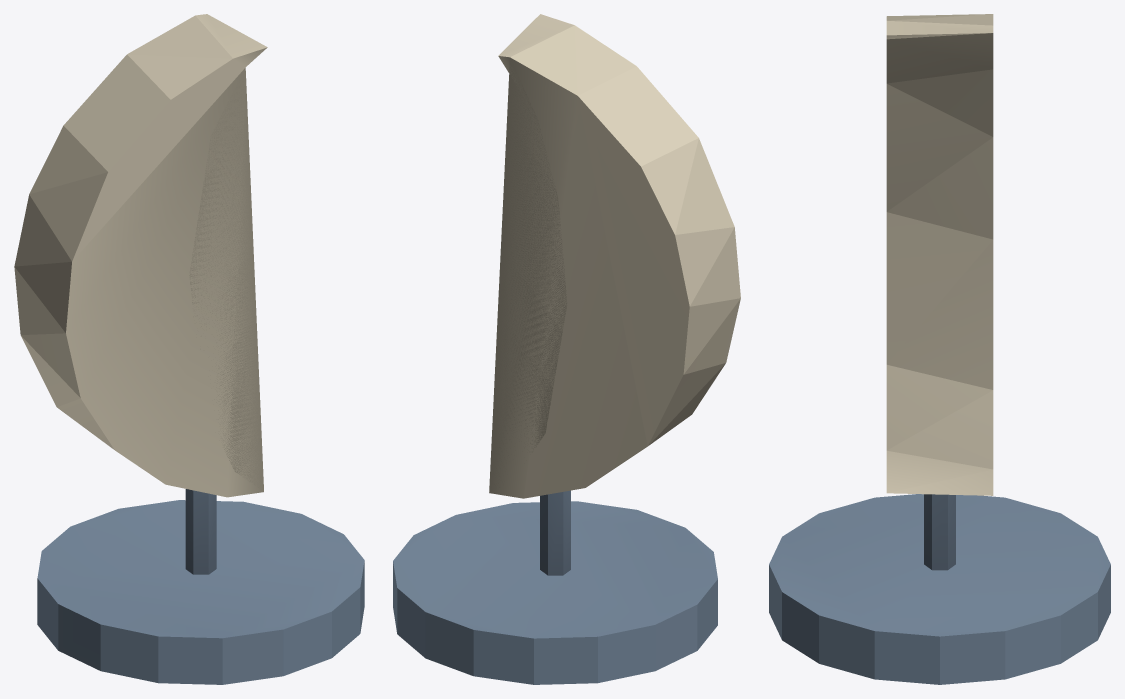
Rendered from furn_moon_lamp__navy_low.glb.
The picture shows the model from 3 angles, left to right: view 1: azimuth 30°, elevation 25°; view 2: azimuth 150°, elevation 25°; view 3: azimuth 270°, elevation 25°; orthographic projection. The views are drawn at different scales.
Size of the model in its own units: 0.3402 by 0.6178 by 0.32.
